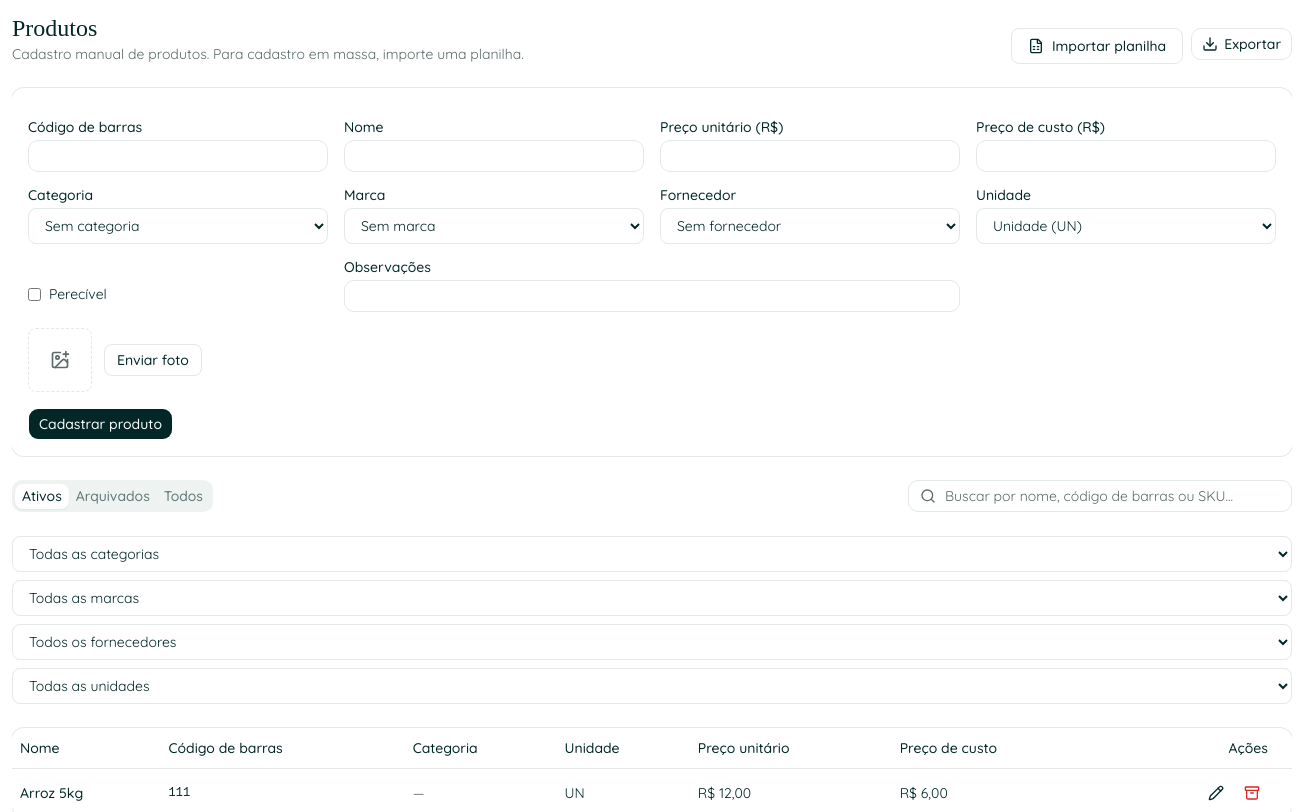
it: ProductsPage — cadastro de código de produto arquivado (etapa 1.3) › conflito com produto ATIVO: só a mensagem, sem oferecer reativar
Expected: the text "Arroz 5kg" is shown, [20,784,83,802]
Type "999" into the field labelled "Código de barras" at x=178, y=156, box [28,140,328,172]
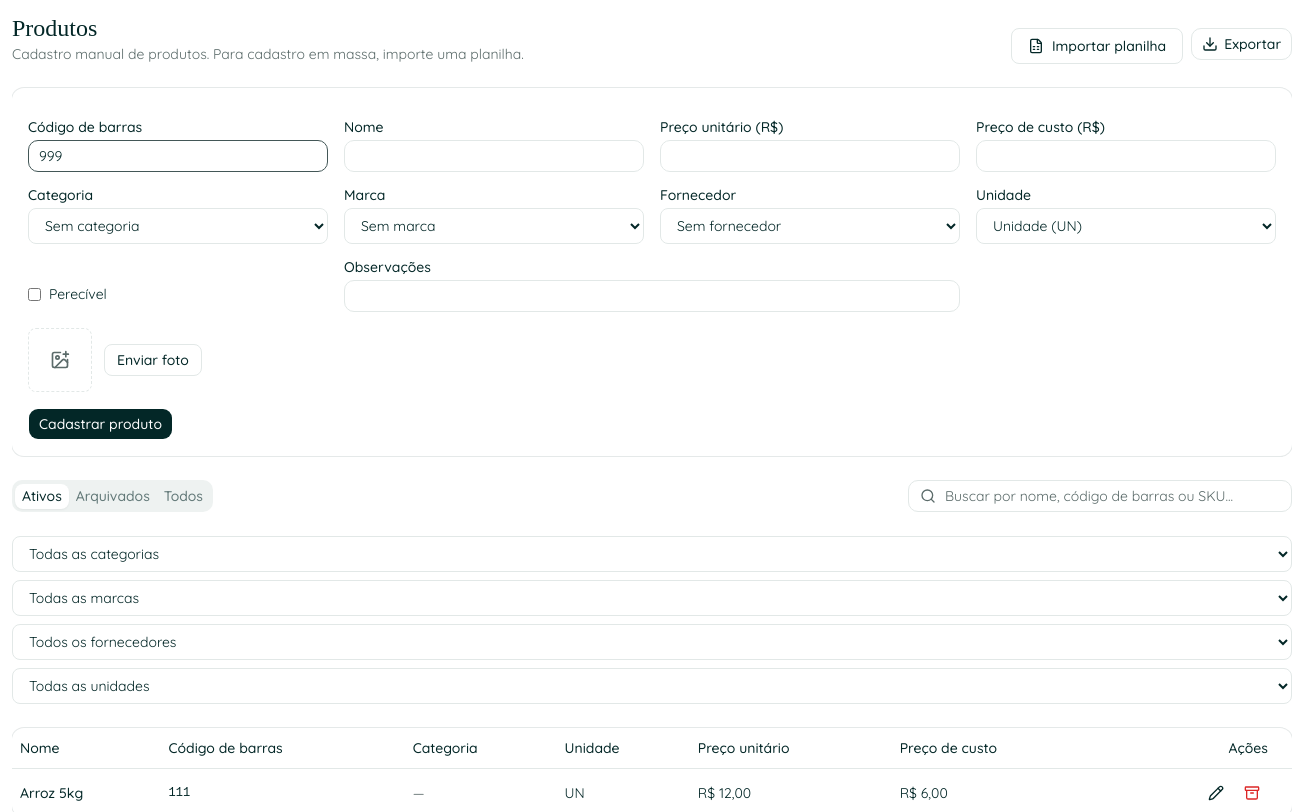
Type "Macarrão" into the field labelled "Nome" at x=494, y=156, box [344,140,644,172]
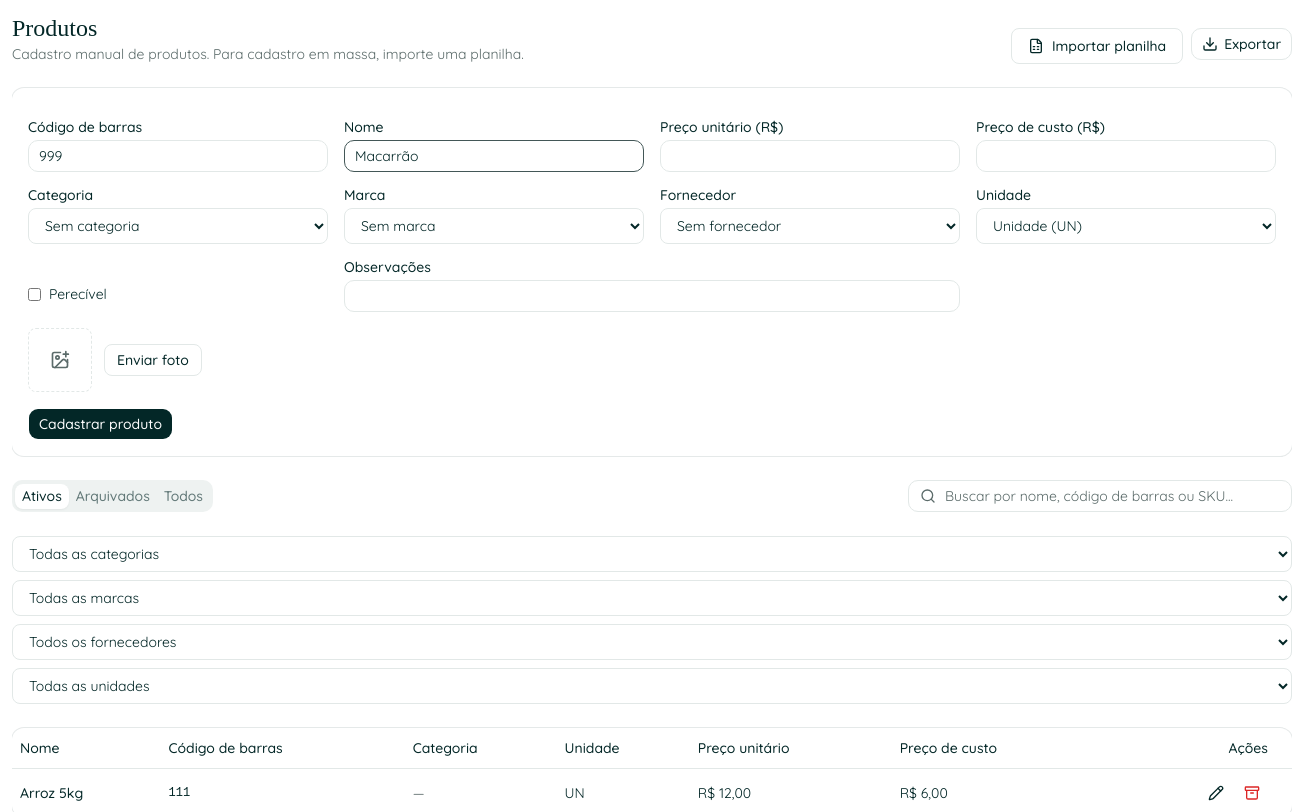
Type "7.5" into the number field labelled "Preço unitário (R$)" at x=810, y=156, box [660,140,960,172]
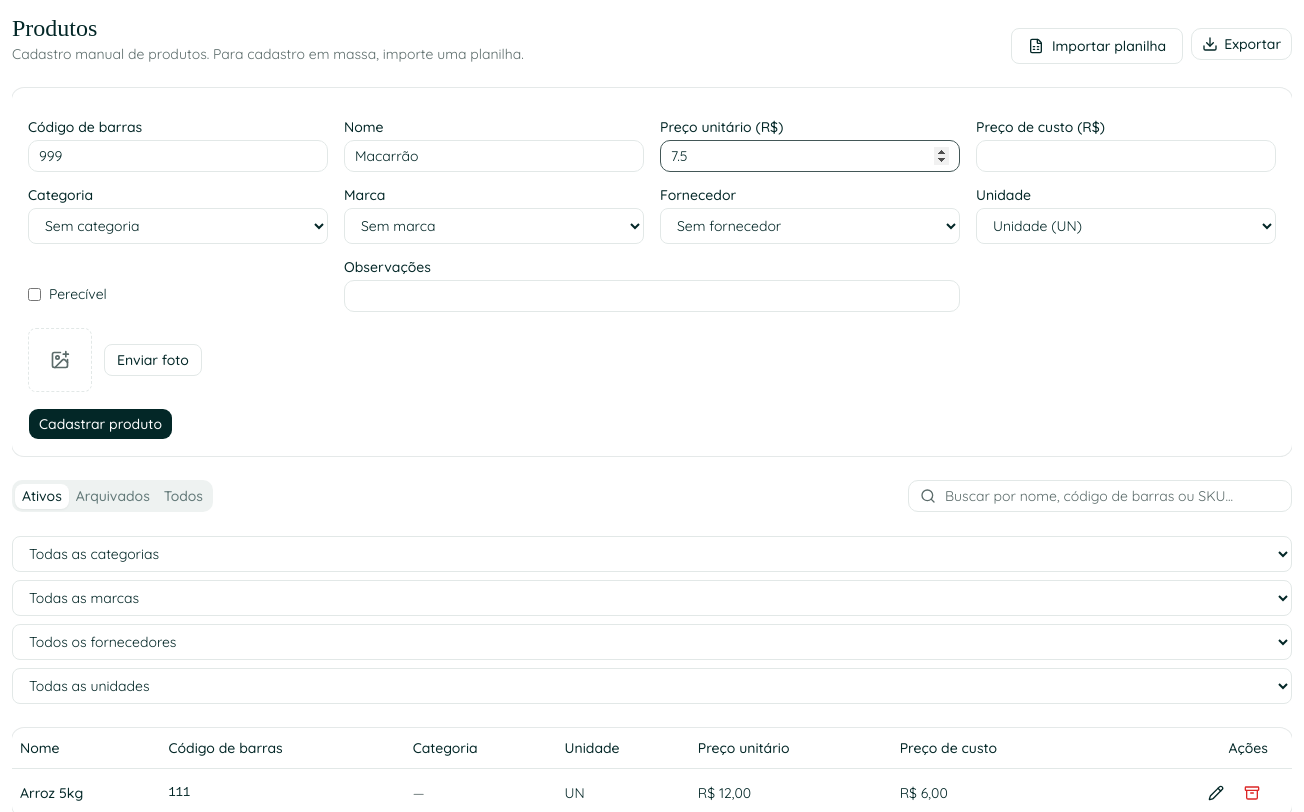
Click the button "Cadastrar produto" at x=100, y=424, box [28,408,173,440]
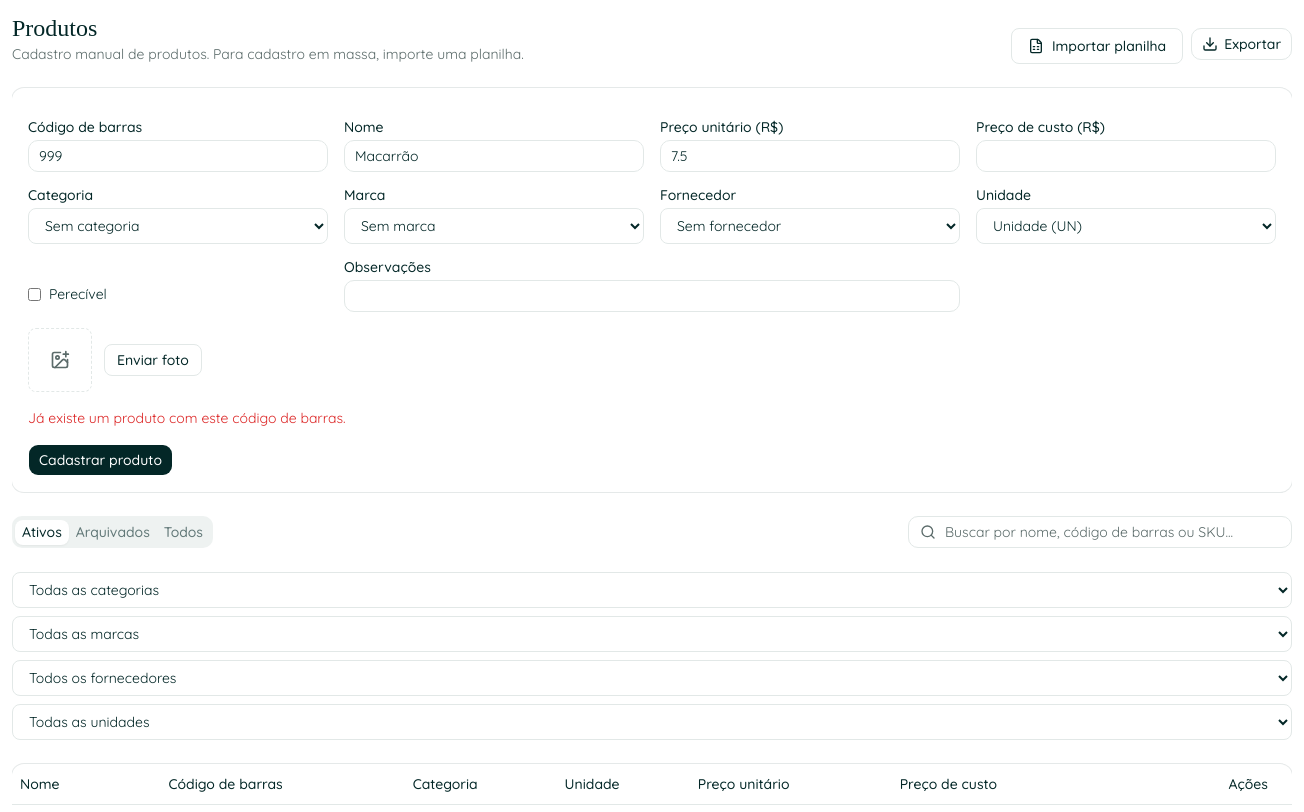
Result: the text "Já existe um produto com este código de barras." is shown at [28,409,346,427]
